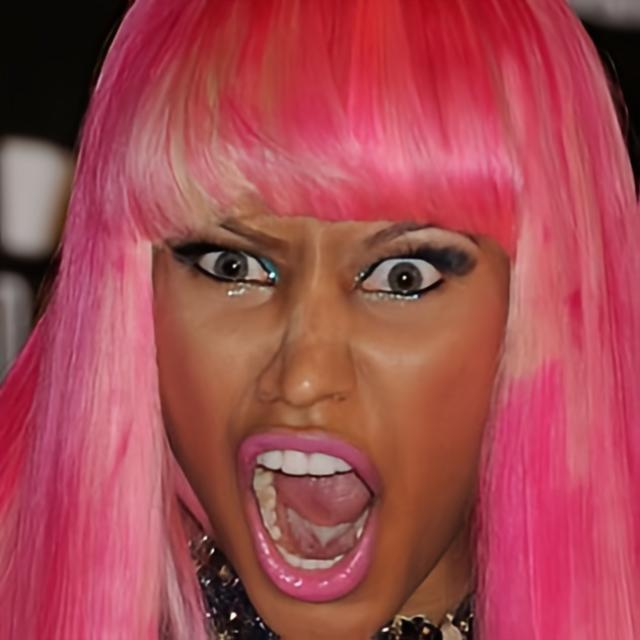anger: (152, 74, 508, 640)
